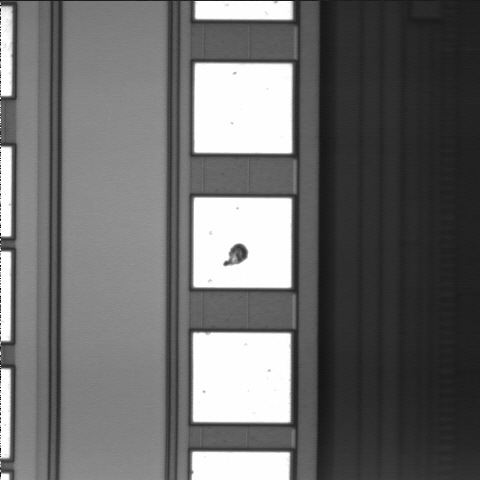pad: (193, 198, 292, 288), (194, 63, 292, 153), (193, 333, 291, 423)
